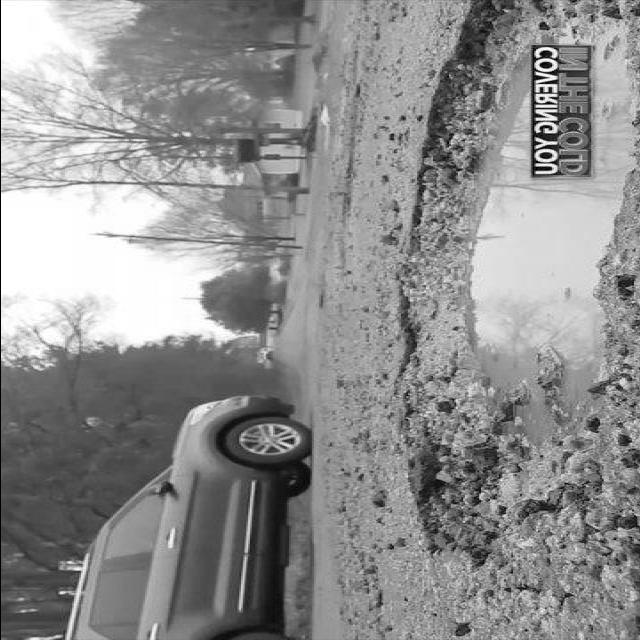jalan retak: (432, 521, 640, 640), (340, 77, 363, 230)
lubang: (391, 0, 631, 563)
